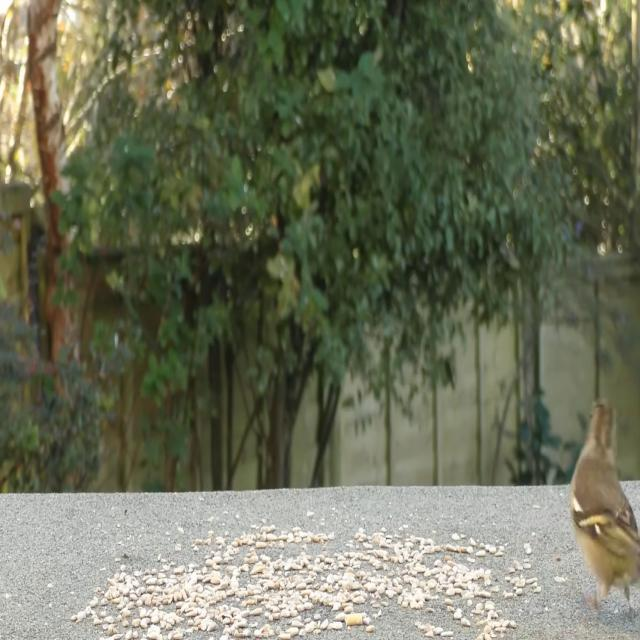bird: (568, 382, 640, 625)
